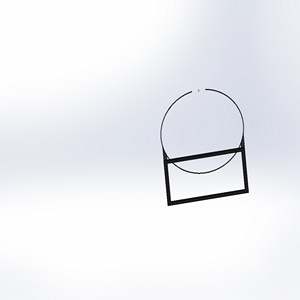circle: (158, 85, 254, 207)
